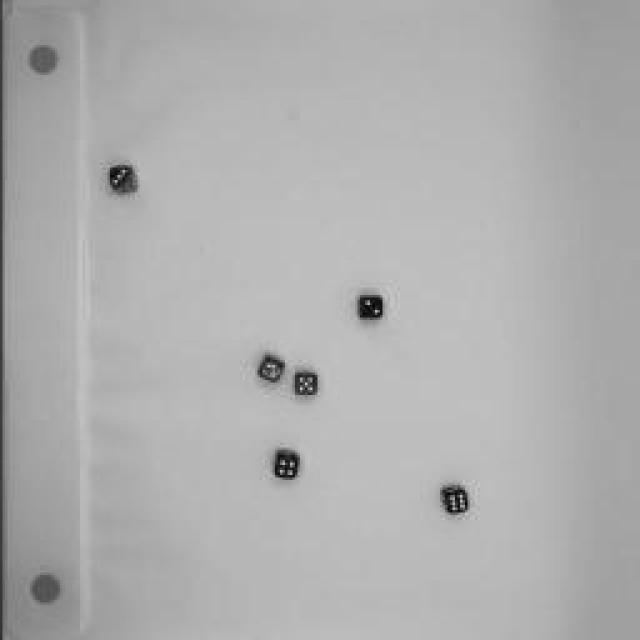dice_2: (254, 344, 288, 386), (352, 288, 388, 324)
dice_3: (104, 160, 141, 198)
dice_4: (268, 445, 308, 485)
dice_5: (288, 365, 322, 403)
dice_6: (435, 478, 473, 518)
